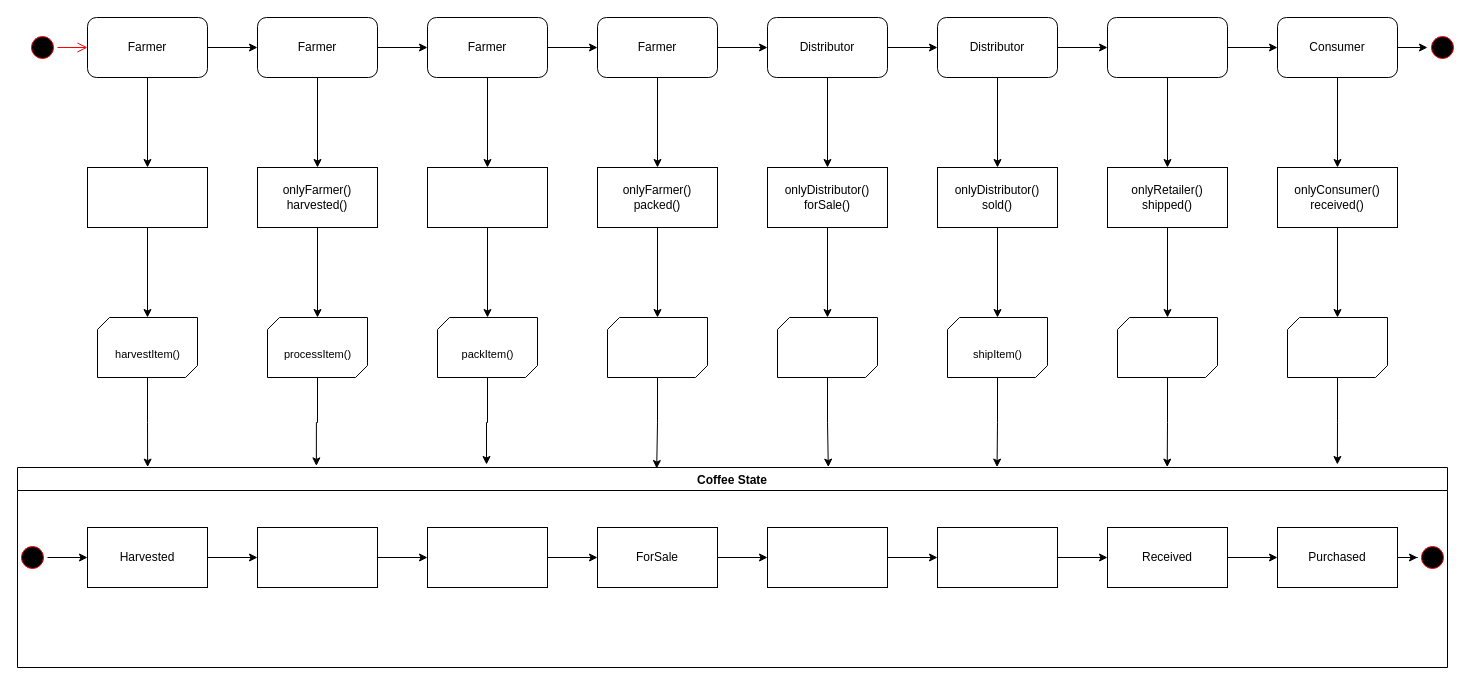
Some shapes in this 1475 by 685 pixel diagram are drawn without their labels. The shapes that lost their labels are listed below. From the top down, each one's box as (x1, y1, x2, y2) in pixels, then its label:
(1106, 16, 1228, 78): Retailer
(86, 166, 208, 228): onlyFarmer()
(426, 166, 548, 228): onlyFarmer() processed()
(606, 316, 708, 378): sellItem()
(776, 316, 878, 378): buyItem()
(1116, 316, 1218, 378): receiveItem()
(1286, 316, 1388, 378): purchaseItem()
(256, 526, 378, 588): Processed
(426, 526, 548, 588): Packed
(766, 526, 888, 588): Sold
(936, 526, 1058, 588): Shipped
